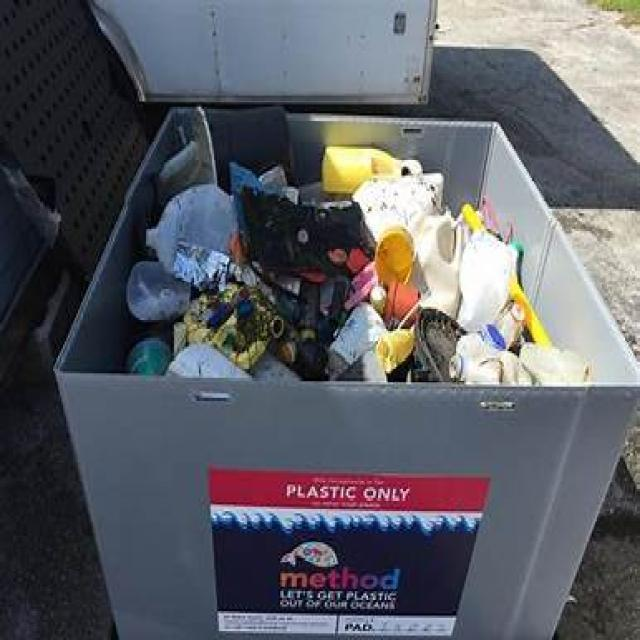Garbage: (121, 112, 592, 388)
Plastic_Bag: (239, 189, 375, 276)
Plastic_Container: (146, 184, 239, 271)
